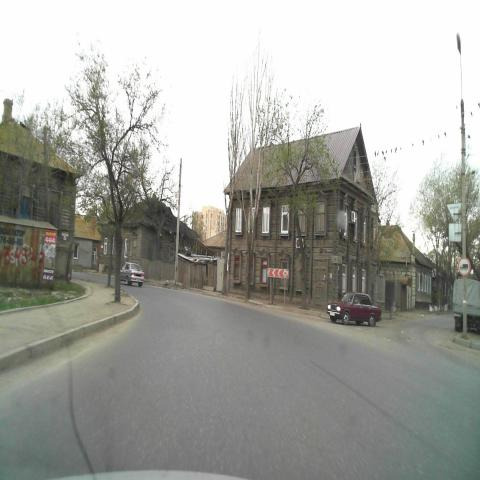3_4_1: (458, 255, 470, 278)
